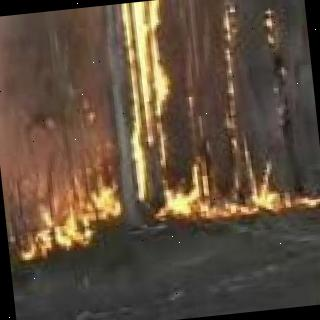fire: (115, 0, 198, 218), (12, 172, 124, 250), (232, 141, 320, 220)
